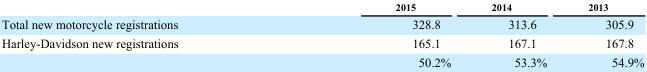table: (0, 0, 643, 68)
table column: (0, 0, 286, 68), (286, 0, 470, 68), (470, 0, 566, 68), (566, 0, 643, 68)
table column header: (0, 0, 643, 14)
table row: (0, 14, 643, 33), (0, 33, 643, 52), (0, 52, 643, 68), (0, 0, 643, 14)
